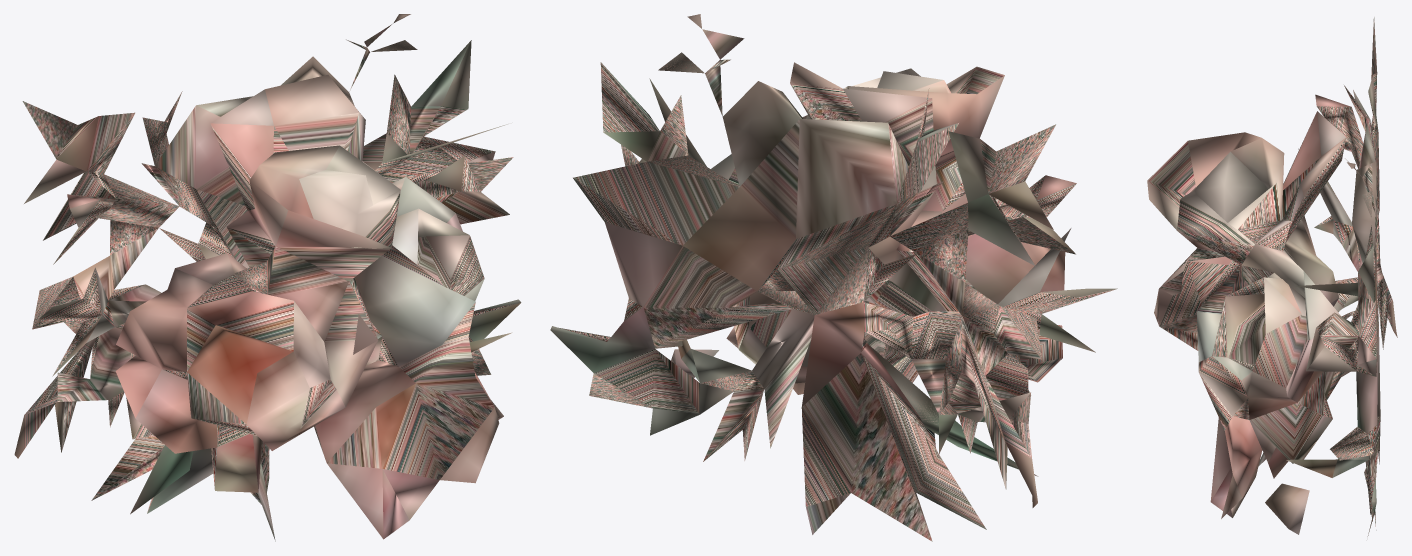
3 renders of one model, left to right at view 1: azimuth 30°, elevation 25°; view 2: azimuth 150°, elevation 25°; view 3: azimuth 270°, elevation 25°, orthographic. The views are drawn at different scales.
Parts seen in each view (by area): view 1: Rose-Bouquet-9-37; view 2: Rose-Bouquet-9-37; view 3: Rose-Bouquet-9-37.
Part boxes in pixels (x1,y1,x2,y2): Rose-Bouquet-9-37: [14, 14, 521, 541]; Rose-Bouquet-9-37: [550, 14, 1117, 541]; Rose-Bouquet-9-37: [1147, 17, 1397, 536].
Bounding box in the file's own units: 0.2931 × 0.2532 × 0.1415.
Materials: 1 (1 with a texture image).
